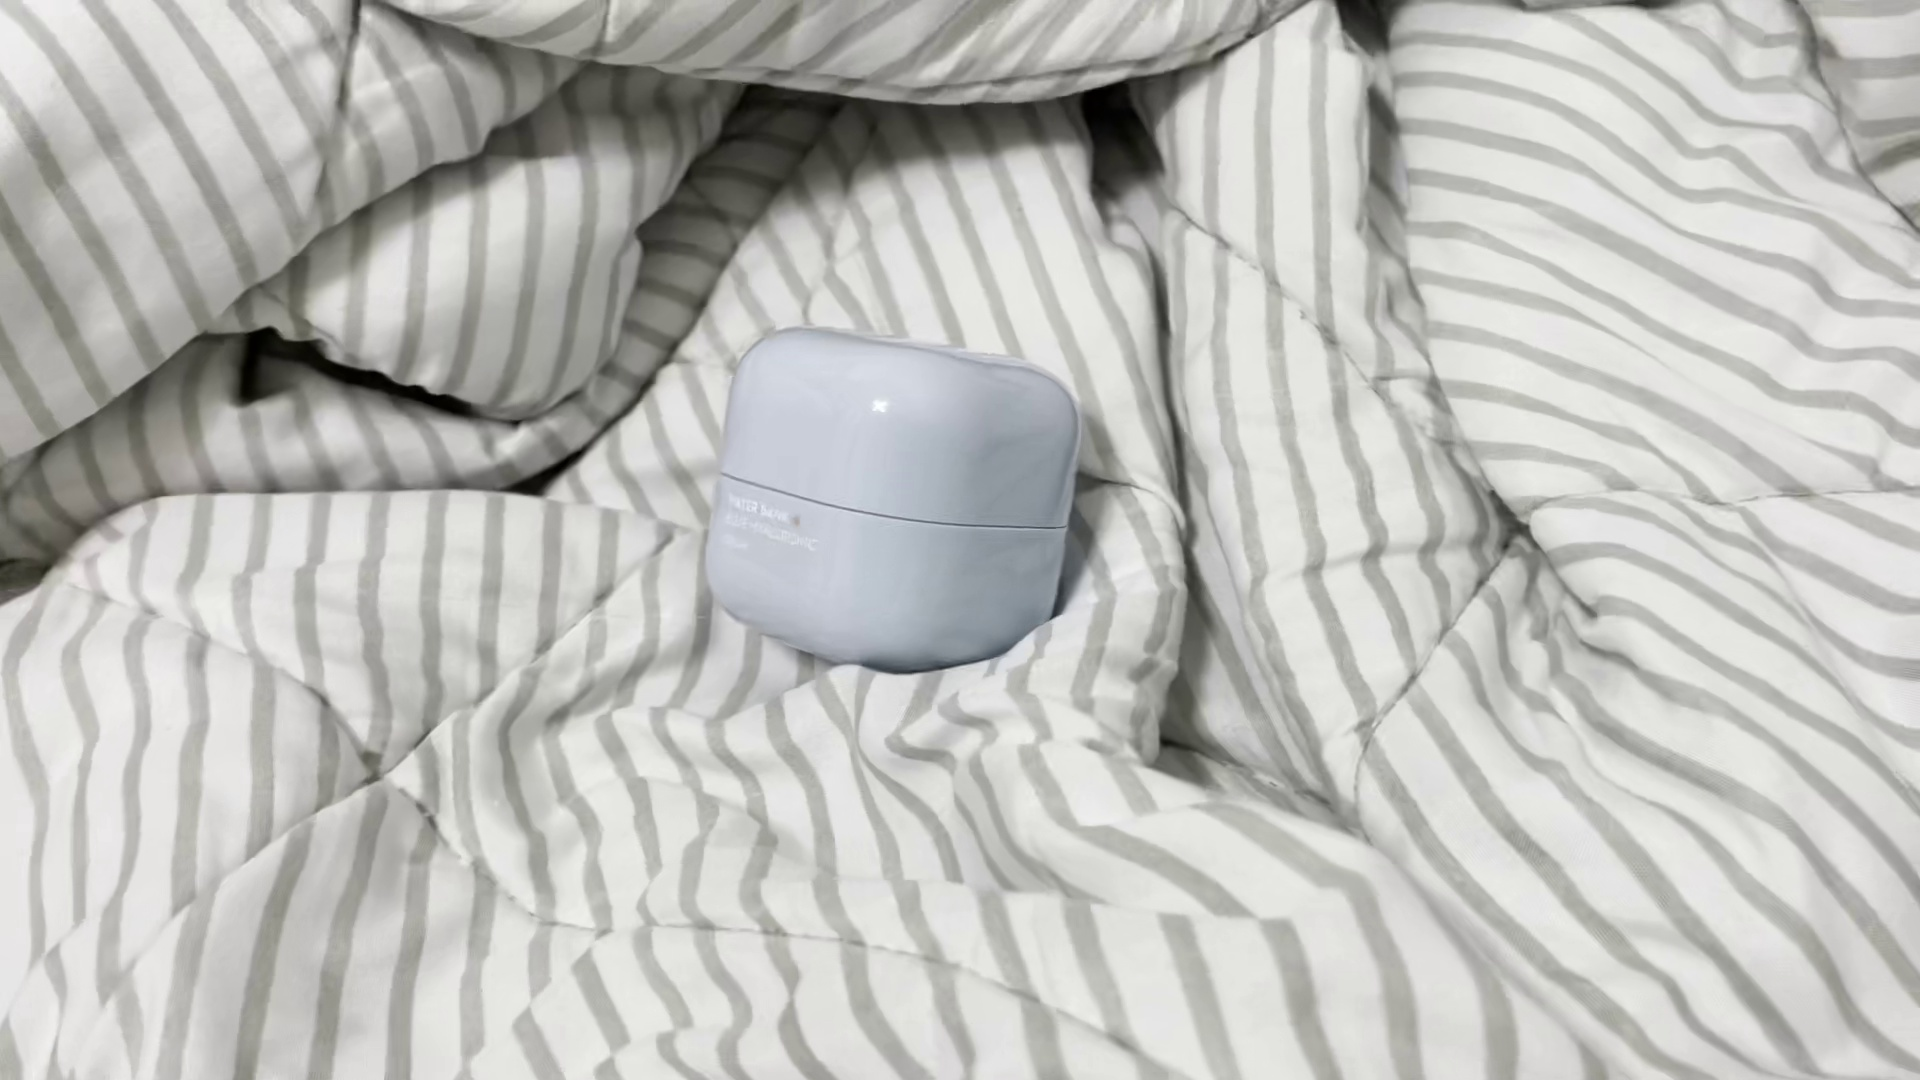cream: (702, 328, 1081, 674)
